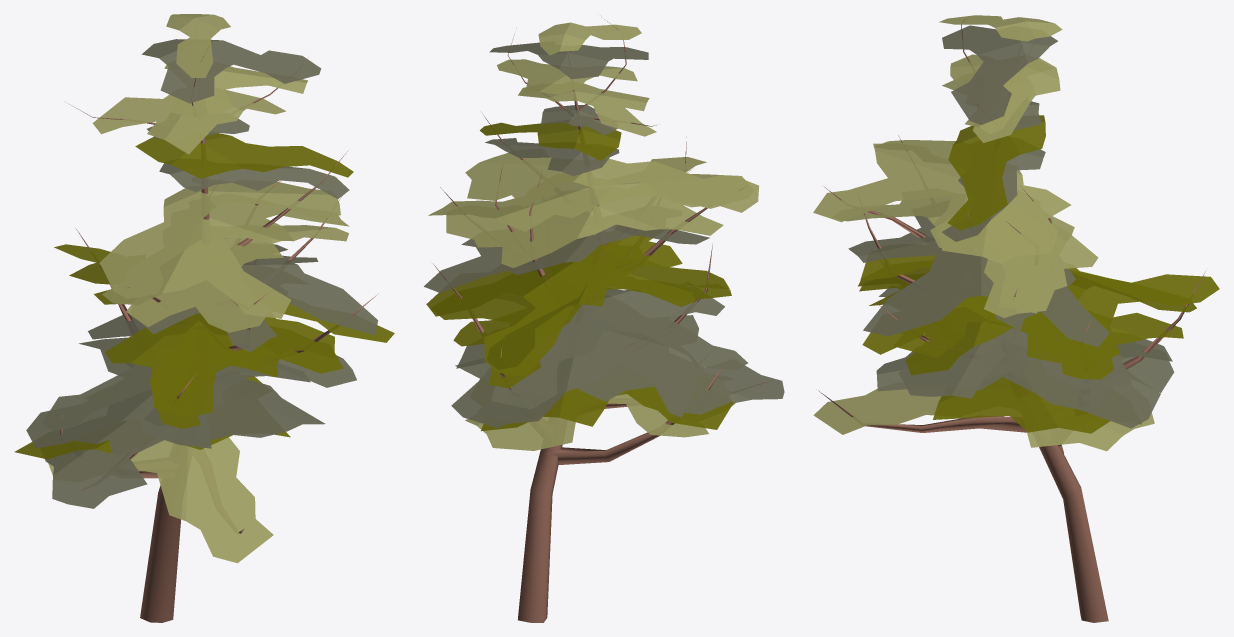
File: Tree1.dae
3 renders of one model, left to right at view 1: azimuth 30°, elevation 25°; view 2: azimuth 150°, elevation 25°; view 3: azimuth 270°, elevation 25°, orthographic. The views are drawn at different scales.
Visible parts, largest first — view 1: group_15, group_14, group_3, group_12, group_6, group_10, group_20, group_17, group_8, group_9, group_21, group_5 (+7 smaller); view 2: group_17, group_13, group_20, group_12, group_8, group_15, group_1 (×2), group_6, group_14, group_10, group_3, group_18 (+8 smaller); view 3: group_10, group_6, group_12, group_13, group_15, group_1 (×2), group_17, group_3, group_5, group_9, group_14, group_18 (+7 smaller).
Boxes of the visible parts, <box> form: group_15: <box>54,244,334,417</box>; group_14: <box>45,379,325,508</box>; group_3: <box>48,437,273,563</box>; group_12: <box>100,181,340,298</box>; group_6: <box>102,202,349,318</box>; group_10: <box>139,244,377,352</box>; group_20: <box>26,337,310,448</box>; group_17: <box>42,315,356,430</box>; group_8: <box>126,225,348,332</box>; group_9: <box>135,133,353,178</box>; group_21: <box>92,89,286,154</box>; group_5: <box>141,39,321,103</box>; group_17: <box>456,286,747,409</box>; group_13: <box>426,235,682,376</box>; group_20: <box>455,315,731,423</box>; group_12: <box>465,153,754,208</box>; group_8: <box>446,194,723,267</box>; group_15: <box>439,264,729,369</box>; group_1 (×2): <box>518,51,731,622</box>; group_6: <box>428,157,759,231</box>; group_14: <box>451,362,784,427</box>; group_10: <box>424,224,709,292</box>; group_3: <box>465,394,708,450</box>; group_18: <box>479,379,733,431</box>; group_10: <box>848,216,1109,347</box>; group_6: <box>813,143,1074,313</box>; group_12: <box>874,140,1071,263</box>; group_13: <box>860,255,1196,368</box>; group_15: <box>858,267,1219,368</box>; group_1 (×2): <box>818,41,1108,622</box>; group_17: <box>879,288,1172,398</box>; group_3: <box>813,388,1154,451</box>; group_5: <box>942,25,1057,124</box>; group_9: <box>947,115,1045,230</box>; group_14: <box>876,351,1160,428</box>; group_18: <box>933,377,1141,433</box>.
Size of the model in its own units: 273 by 297 by 482.
